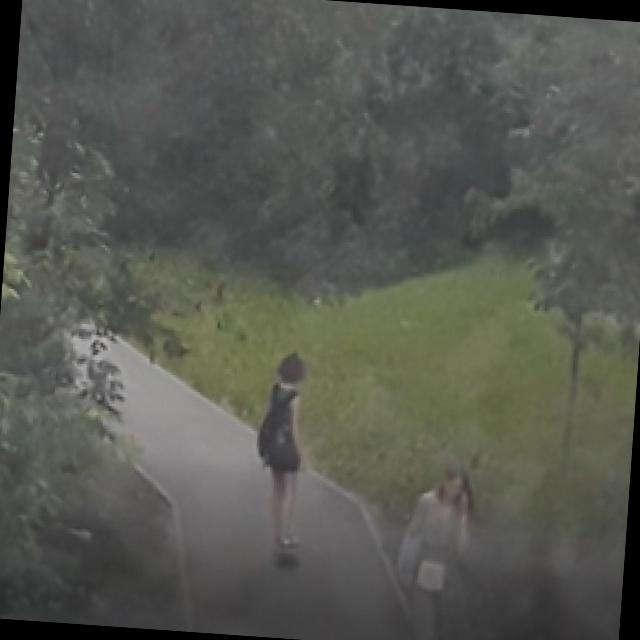person: (390, 463, 480, 640), (248, 348, 315, 564)
